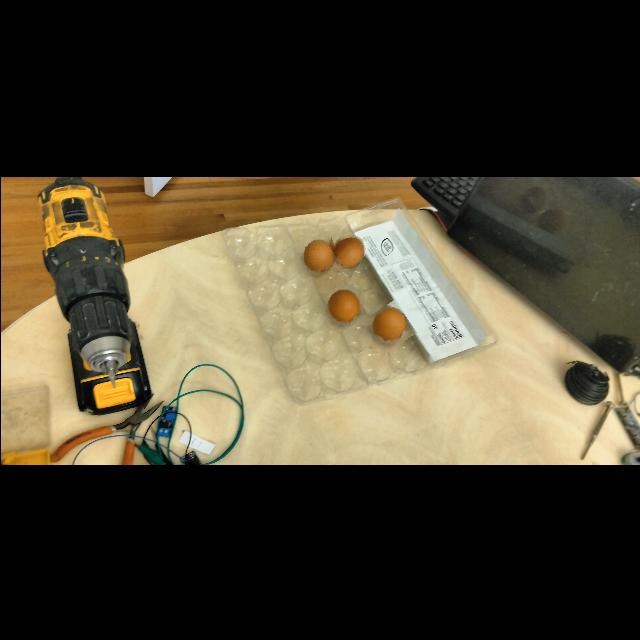Egg: (364, 303, 412, 351), (296, 232, 338, 278), (325, 285, 365, 329), (326, 230, 366, 274)
